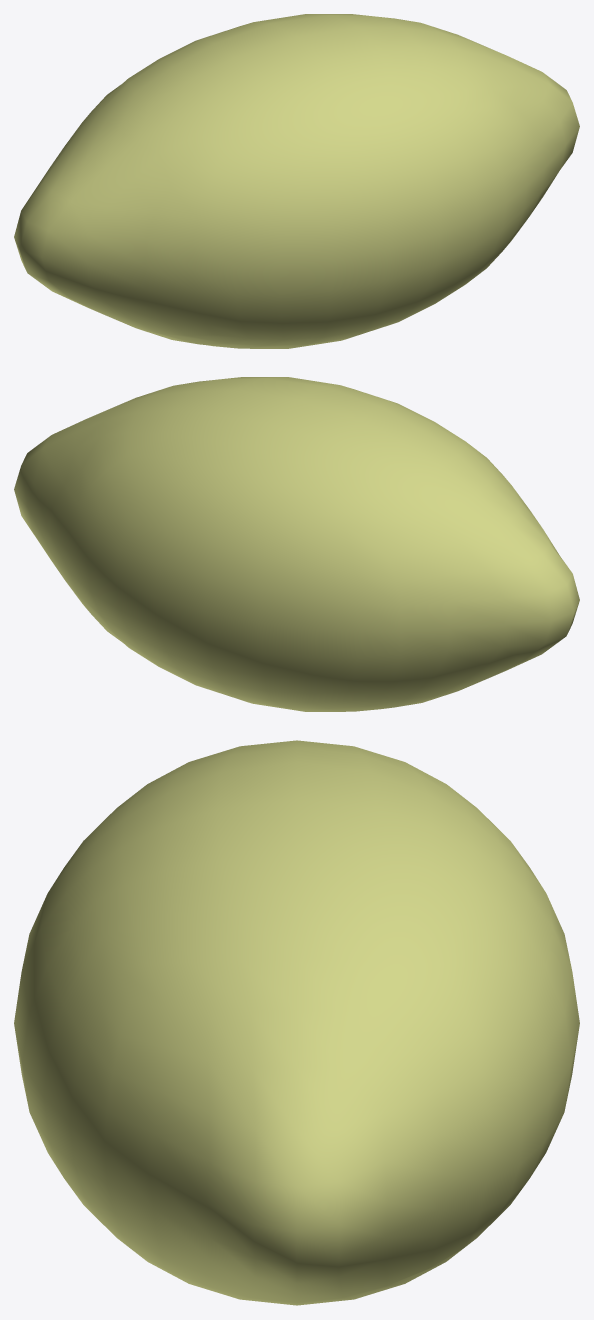
File: Lemon.fbx
3 renders of one model, top to bottom at view 1: azimuth 30°, elevation 25°; view 2: azimuth 150°, elevation 25°; view 3: azimuth 270°, elevation 25°, orthographic. The views are drawn at different scales.
Parts seen in each view (by area): view 1: Lemon; view 2: Lemon; view 3: Lemon.
Part boxes in pixels (x1,y1,x2,y2): Lemon: [14, 14, 579, 348]; Lemon: [14, 377, 579, 711]; Lemon: [14, 740, 579, 1305].
Bounding box in the file's own units: 0.2791 × 0.1392 × 0.1605.
